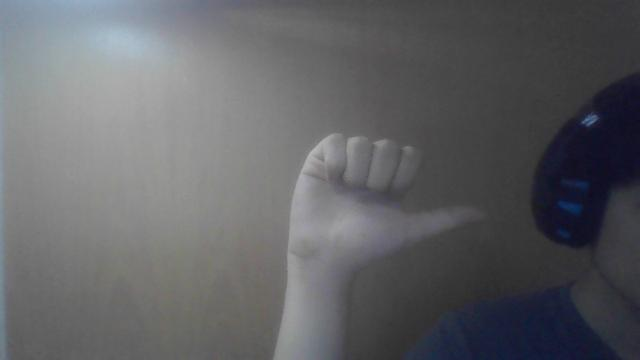left: (282, 132, 488, 264)
